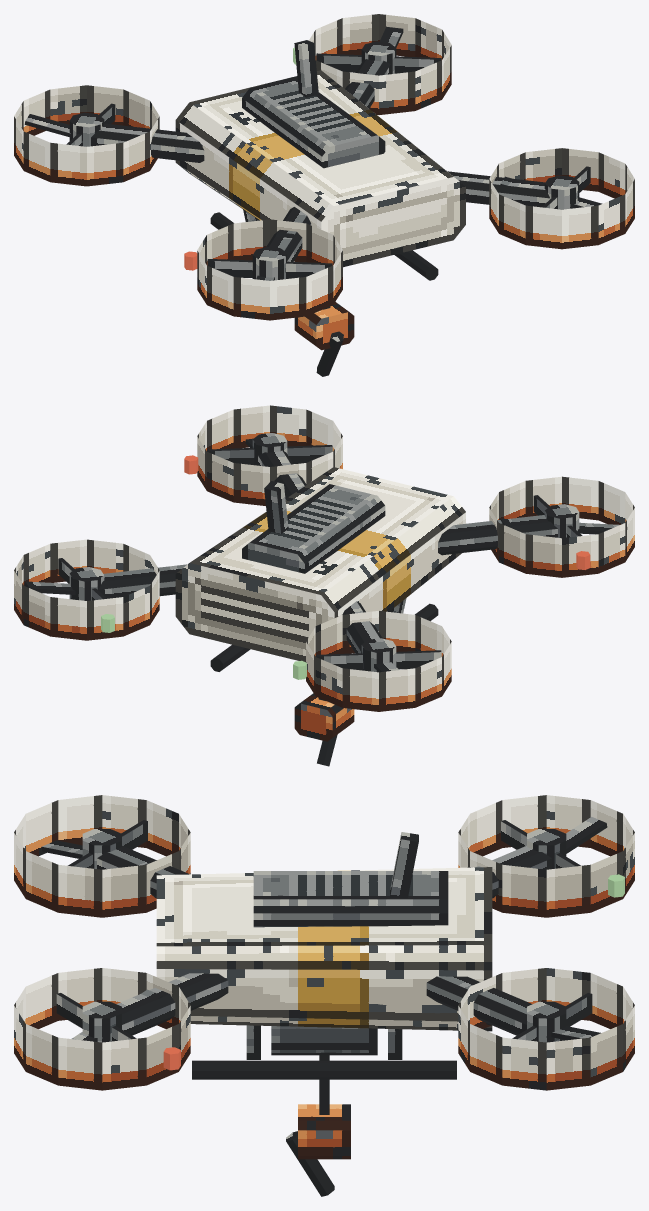
Rendered from drone_carrier.glb.
3 renders of one model, top to bottom at view 1: azimuth 30°, elevation 25°; view 2: azimuth 150°, elevation 25°; view 3: azimuth 270°, elevation 25°, orthographic. The views are drawn at different scales.
Parts seen in each view (by area): view 1: hull, duct, duct_mirror, duct_b_mirror, duct_b, spine, boom_back_mirror, boom, hookblock, blade_mirror, blade_b, antenna (+9 smaller); view 2: hull, duct_mirror, duct_b_mirror, duct_b, duct, spine, boom_mirror, hookblock, boom_back, blade_b_mirror, blade, antenna (+8 smaller); view 3: hull, duct_mirror, duct_b, duct, duct_b_mirror, spine, skid, boom, winch, boom_back, hookblock, hub (+12 smaller).
Part boxes in pixels (left/top/right/bottom): hull: left=175, top=70, right=465, bottom=267; duct: left=489, top=148, right=634, bottom=249; duct_mirror: left=197, top=219, right=342, bottom=320; duct_b_mirror: left=14, top=85, right=159, bottom=186; duct_b: left=309, top=14, right=451, bottom=114; spine: left=242, top=76, right=385, bottom=168; boom_back_mirror: left=91, top=123, right=204, bottom=162; boom: left=447, top=171, right=550, bottom=207; hookblock: left=294, top=302, right=354, bottom=350; blade_mirror: left=207, top=259, right=332, bottom=278; blade_b: left=316, top=53, right=441, bottom=73; antenna: left=294, top=40, right=318, bottom=97; hull: left=175, top=467, right=465, bottom=662; duct_mirror: left=489, top=476, right=634, bottom=577; duct_b_mirror: left=306, top=611, right=451, bottom=711; duct_b: left=14, top=539, right=159, bottom=640; duct: left=197, top=405, right=342, bottom=505; spine: left=242, top=484, right=385, bottom=573; boom_mirror: left=438, top=515, right=557, bottom=555; hookblock: left=294, top=693, right=354, bottom=741; boom_back: left=98, top=564, right=186, bottom=598; blade_b_mirror: left=316, top=650, right=441, bottom=670; blade: left=207, top=445, right=332, bottom=464; antenna: left=264, top=481, right=288, bottom=533; hull: left=156, top=867, right=492, bottom=1031; duct_mirror: left=14, top=795, right=190, bottom=917; duct_b: left=458, top=968, right=634, bottom=1090; duct: left=14, top=968, right=190, bottom=1090; duct_b_mirror: left=458, top=795, right=634, bottom=917; spine: left=253, top=871, right=448, bottom=927; skid: left=192, top=1060, right=456, bottom=1079; boom: left=116, top=973, right=228, bottom=1035; winch: left=271, top=1026, right=377, bottom=1055; boom_back: left=426, top=976, right=532, bottom=1035; hookblock: left=298, top=1104, right=350, bottom=1159; hub: left=82, top=1001, right=121, bottom=1042.
Bounding box in the file's own units: 33.14 × 23 × 35.14.
Materials: 2 (2 with a texture image).
